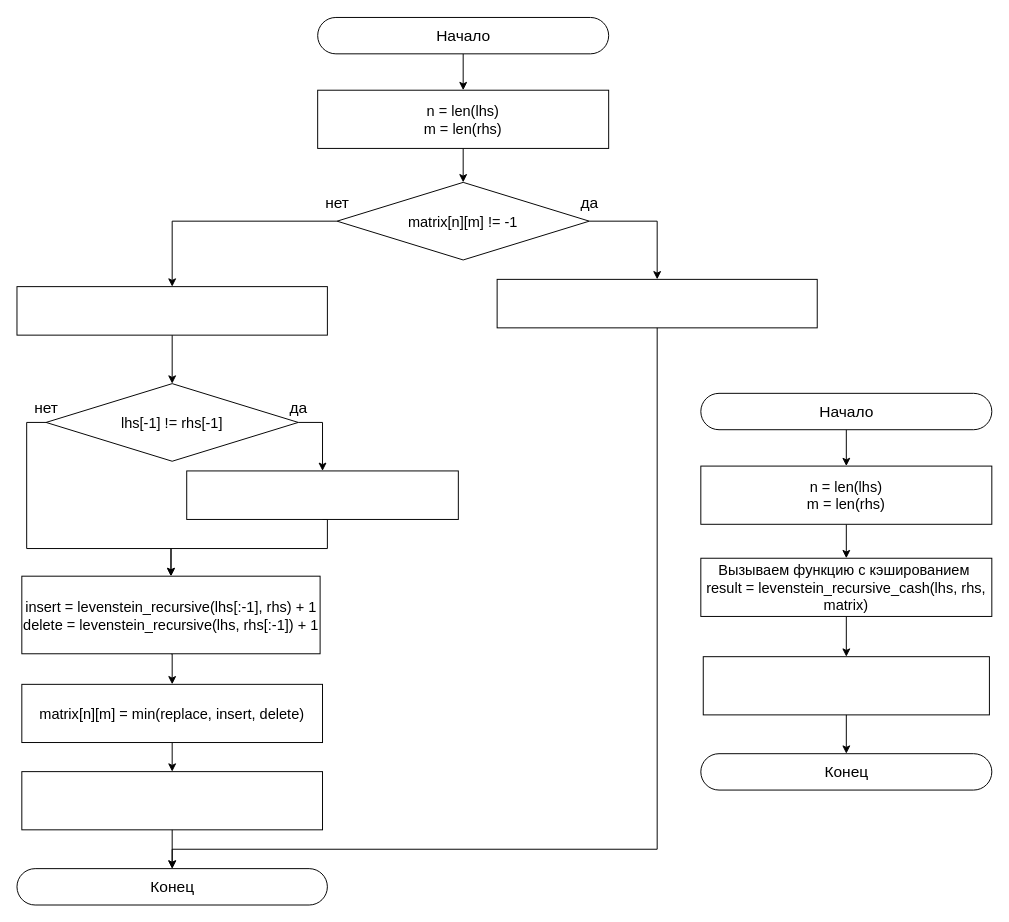
Image size: 1009x922. Some labels were removed from this diagram. The centre of each missing label's shape, as x and y in pixels:
"replace += 1" goes at (x=322, y=494).
"replace = levenstein_recursive (lhs[:-1], rhs[:-1])" goes at (x=171, y=310).
"Вернуть m" goes at (x=656, y=303).
"Вернуть matrix[n][m]" goes at (x=172, y=800).
"Вернуть result" goes at (x=845, y=685).
